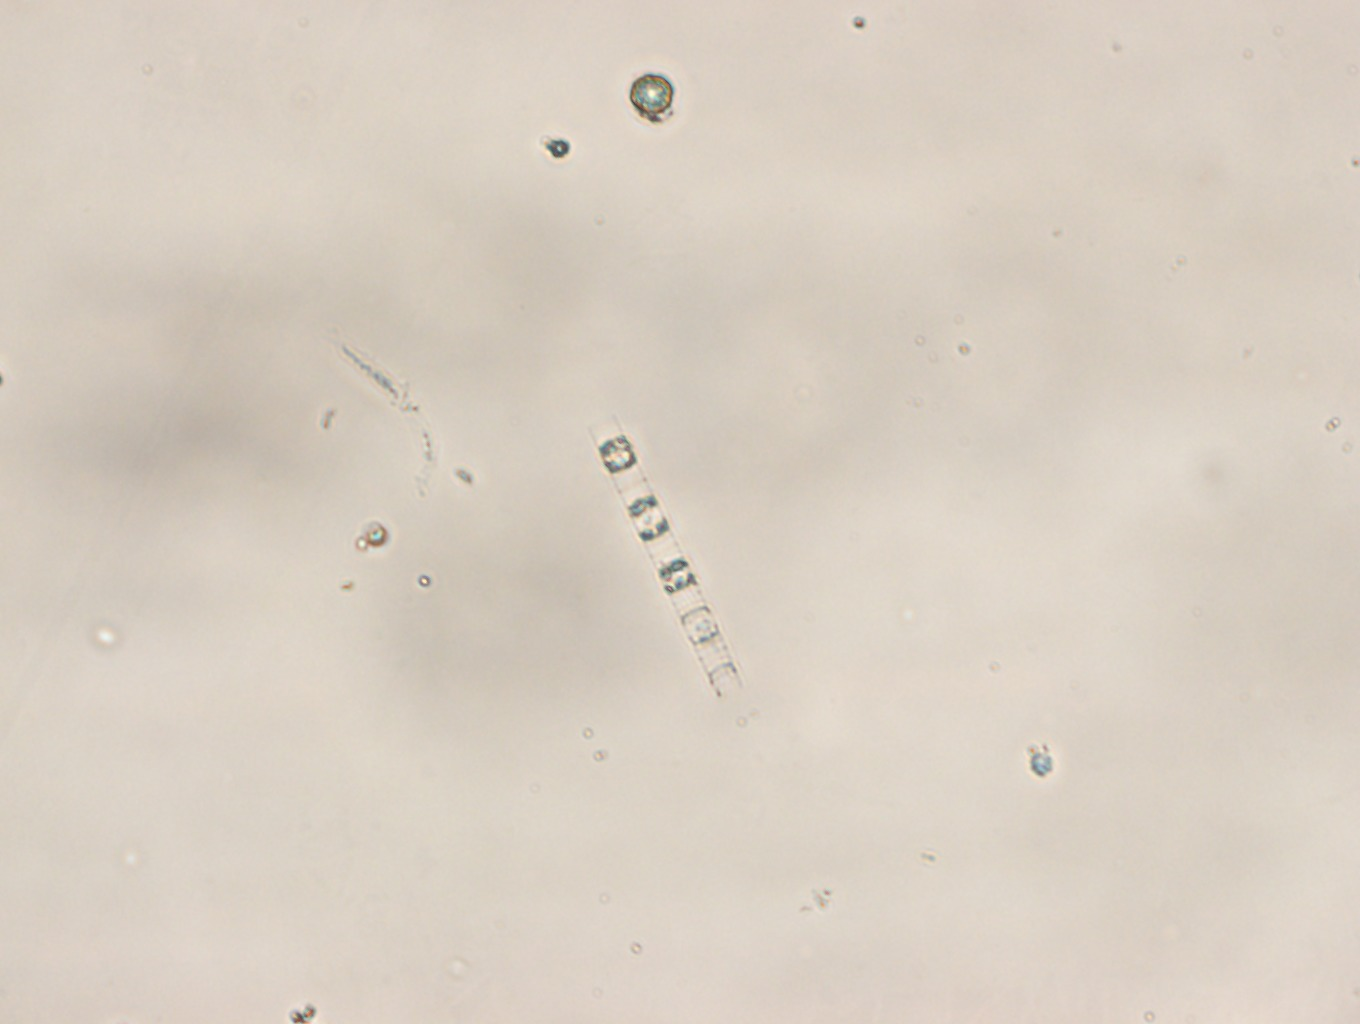skeletonema: (579, 406, 743, 705)
